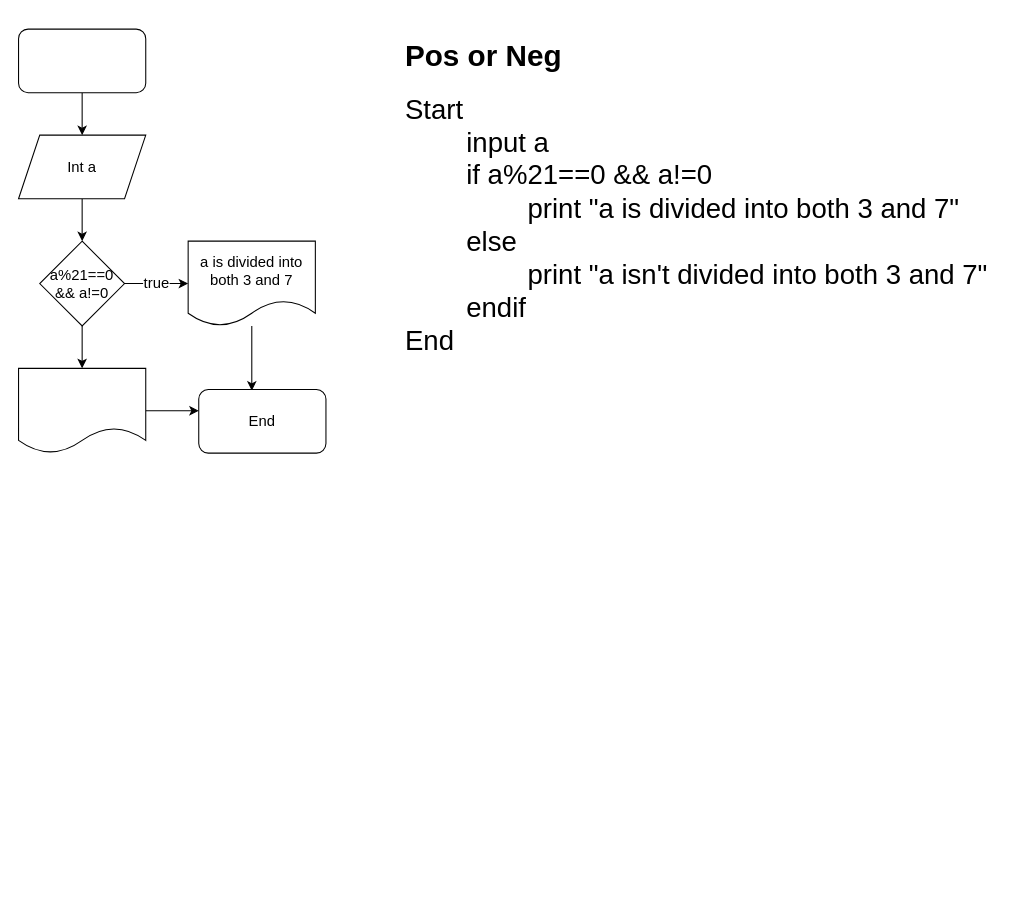
The diagram is 1012 pixels wide and 916 high, and some of its shapes have lost their labels. Each missing label, with the box of its shape:
a isn't divided into both 3 and 7: (17, 367, 146, 453)
Start: (17, 28, 146, 93)
